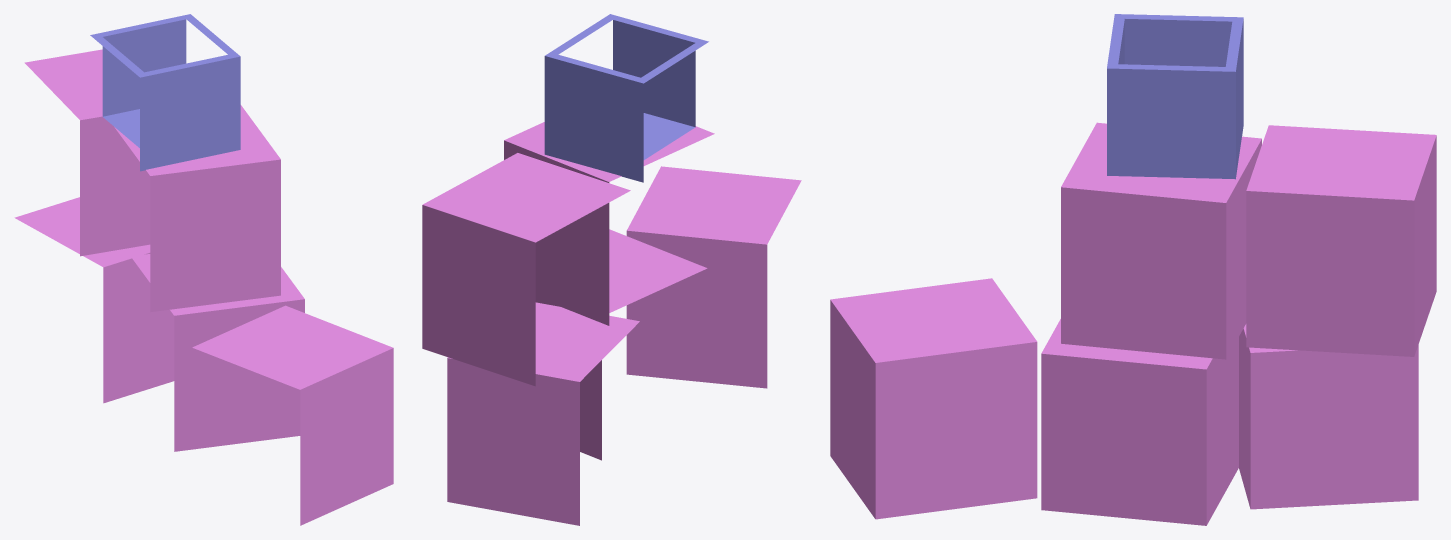
The model's file is interior_Aa_s__boxgroup.gltf.
3 renders of one model, left to right at view 1: azimuth 30°, elevation 25°; view 2: azimuth 150°, elevation 25°; view 3: azimuth 270°, elevation 25°, orthographic. The views are drawn at different scales.
Visible parts, largest first — view 1: boxgroup; view 2: boxgroup; view 3: boxgroup.
Part boxes in pixels (left/top/right/bottom): boxgroup: left=14, top=14, right=393, bottom=525; boxgroup: left=422, top=14, right=801, bottom=525; boxgroup: left=830, top=14, right=1436, bottom=525.
Size of the model in its own units: 0.3807 by 0.8188 by 1.07.
